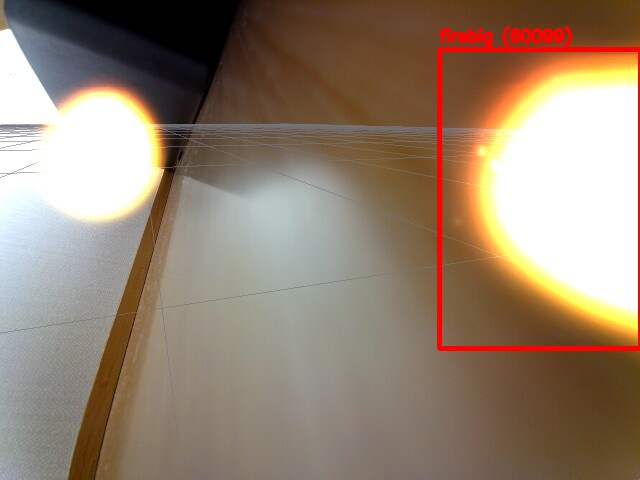firebig: (439, 49, 640, 348)
